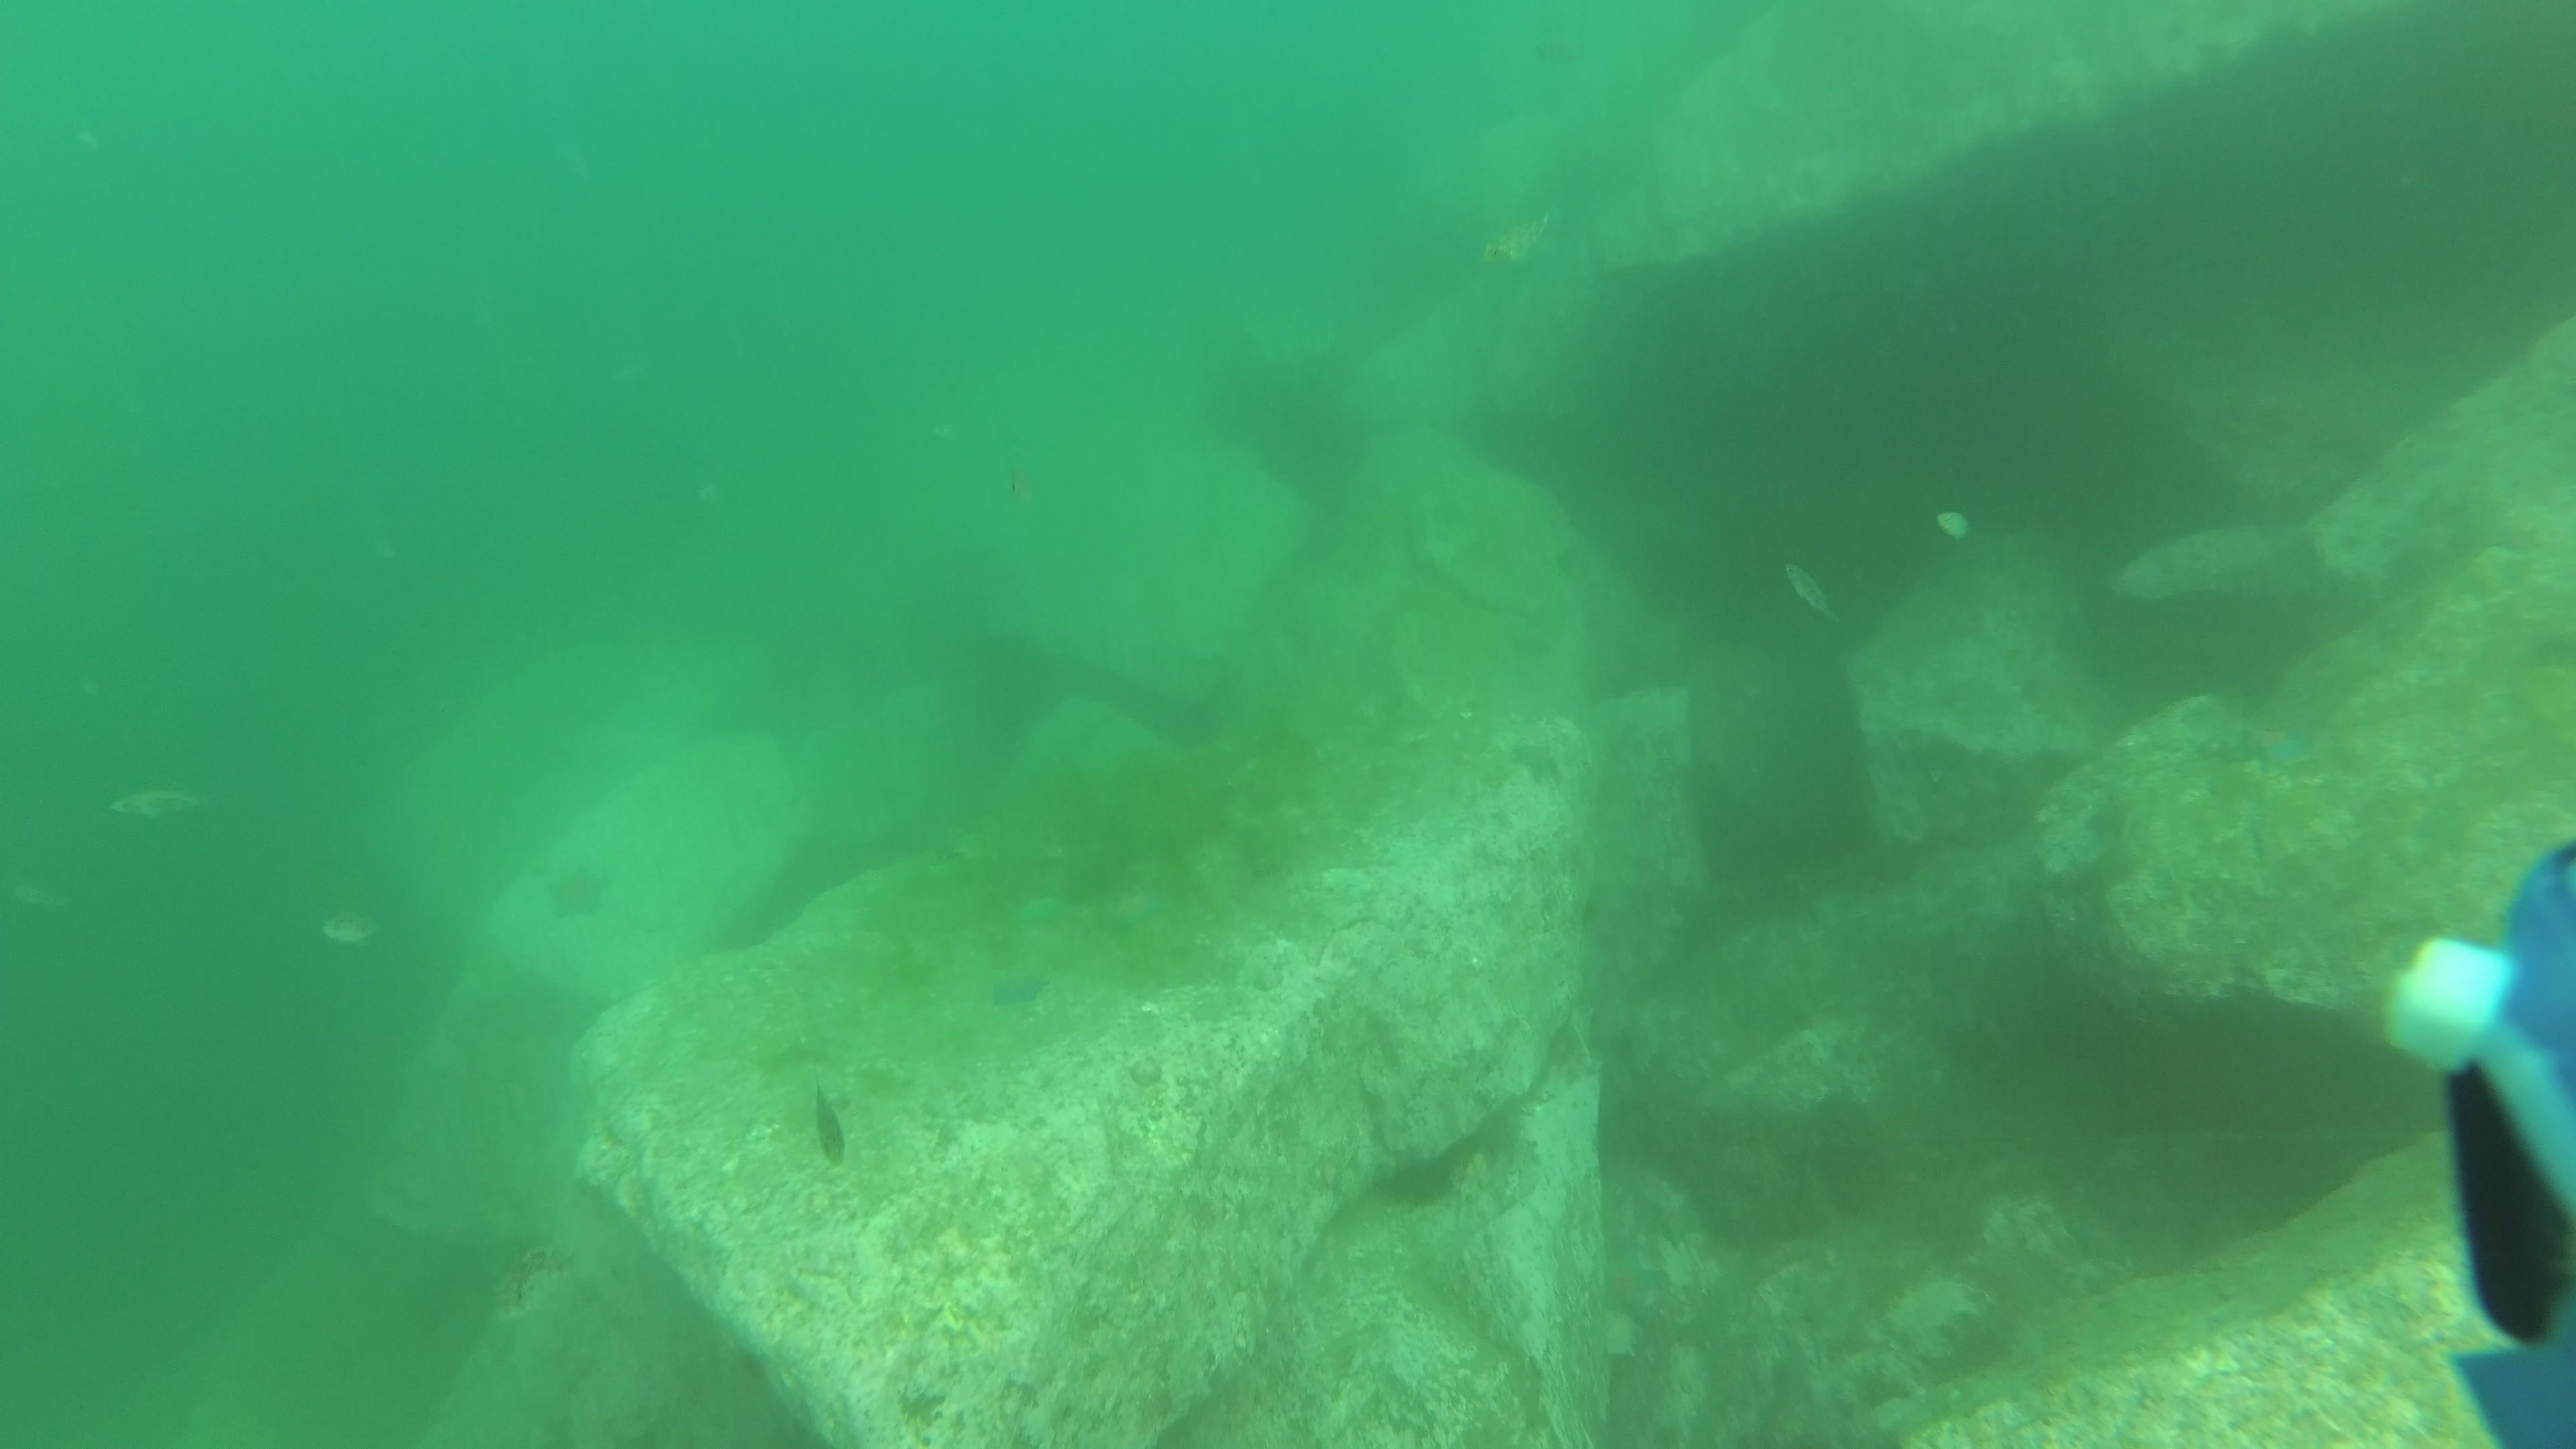starfish: (2224, 720, 2321, 771), (538, 858, 617, 920), (1504, 732, 1566, 784), (989, 962, 1051, 1012)
